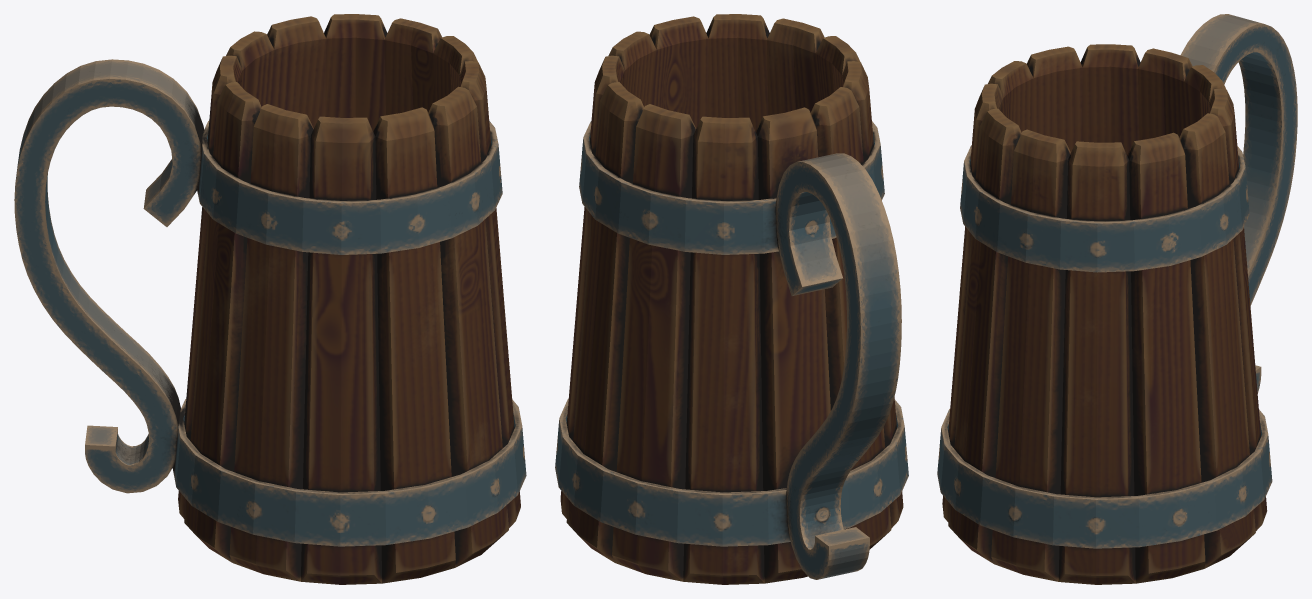
File: mug_simplify.obj
3 renders of one model, left to right at view 1: azimuth 30°, elevation 25°; view 2: azimuth 150°, elevation 25°; view 3: azimuth 270°, elevation 25°, orthographic. The views are drawn at different scales.
Bounding box in the file's own units: 2.78 × 2.95 × 2.26.
1 material, 1 textured.
